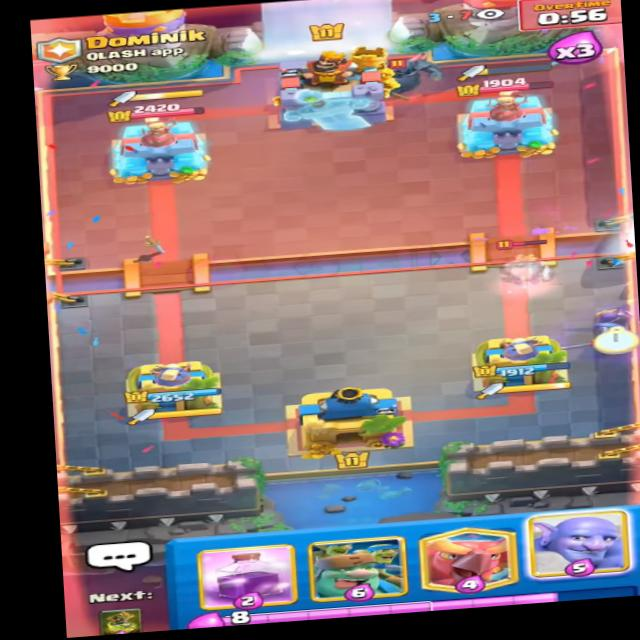pekka: (363, 51, 451, 99)
royal-ghost: (485, 233, 567, 289)
